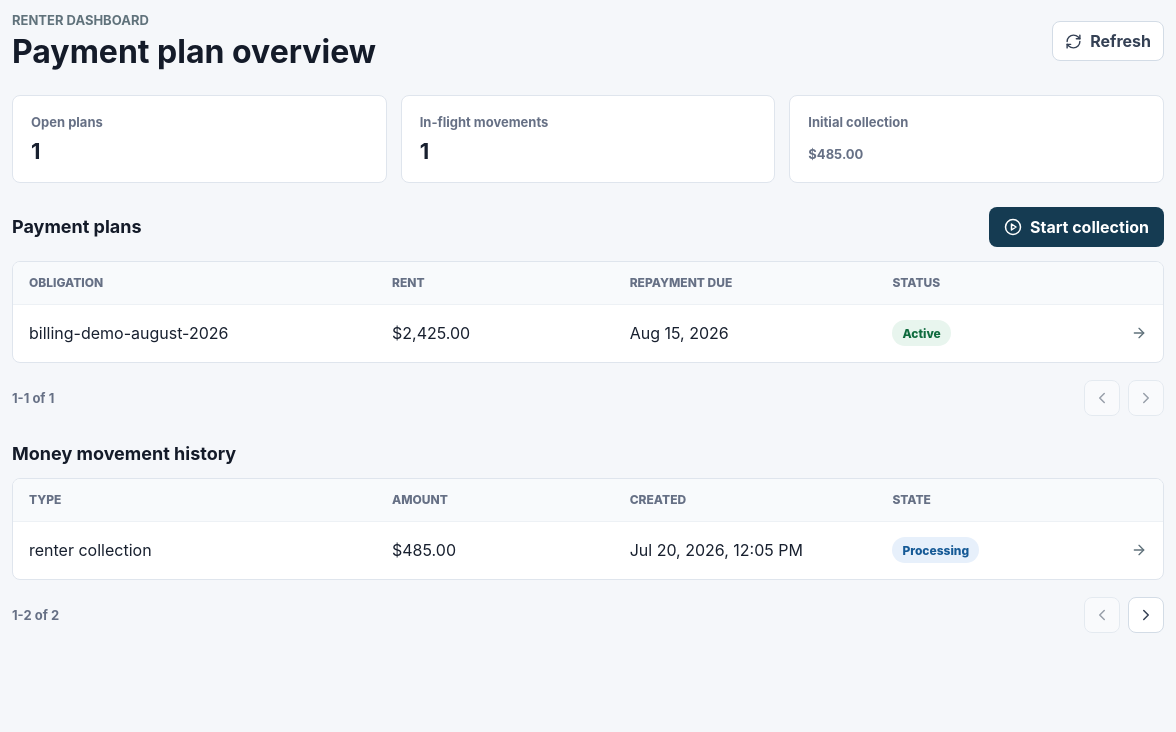
Test: RenterDashboardPage › paginates dashboard money movements independently
The width and height of the screenshot is (1176, 732).
Check: the text "$485.00" below "Initial collection" is shown, box top-left (808, 146), bottom-right (863, 162)
Step 1. Click the button named "Money movements next page" → (1146, 615), box top-left (1128, 597), bottom-right (1164, 633)
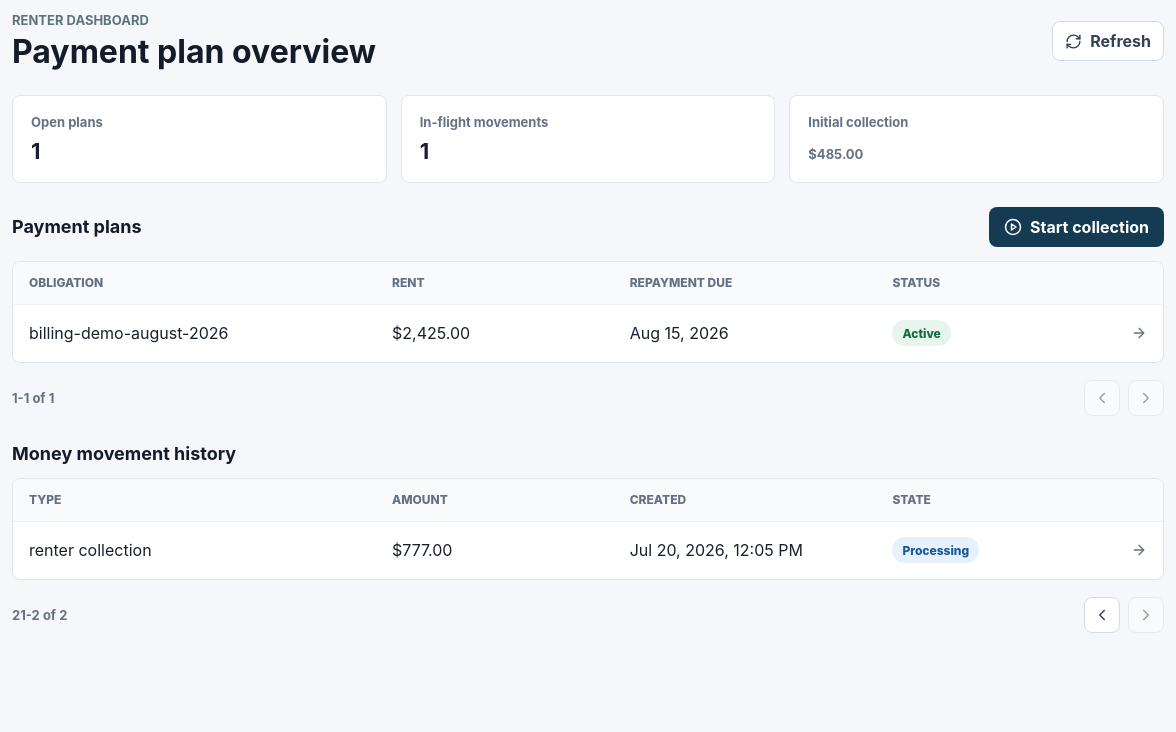
Check: the text "$777.00" is shown, box top-left (392, 540), bottom-right (452, 560)
